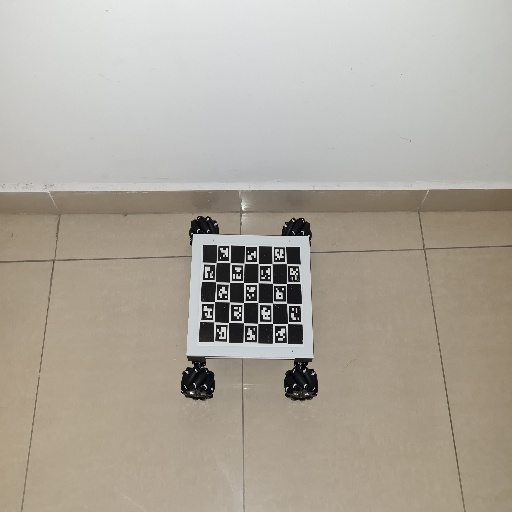Omniwheel: (181, 216, 318, 403)
